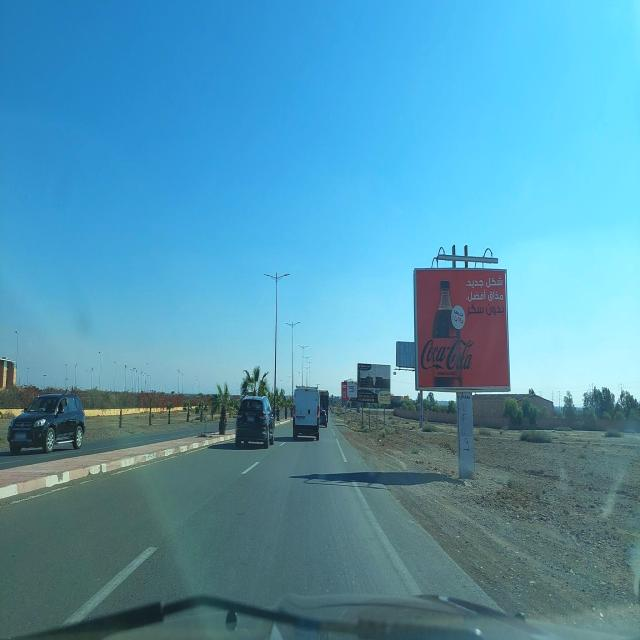car: (6, 390, 85, 455), (234, 395, 275, 449), (292, 384, 320, 440), (319, 395, 328, 428)
